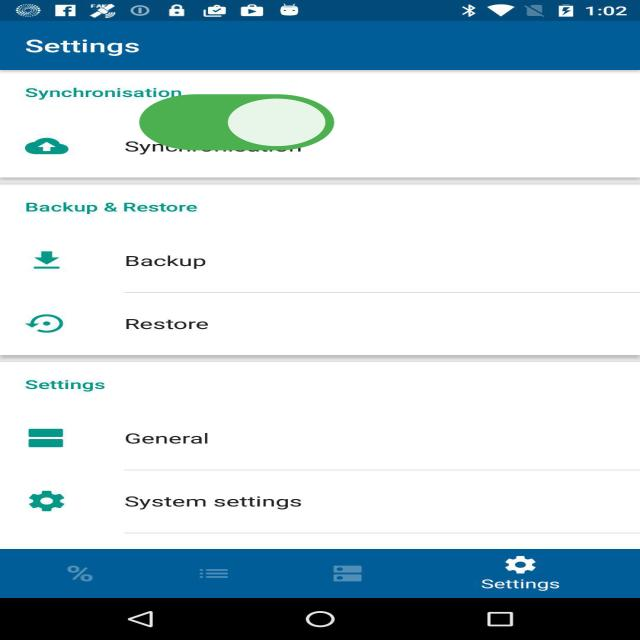social proof: (130, 73, 343, 176)
